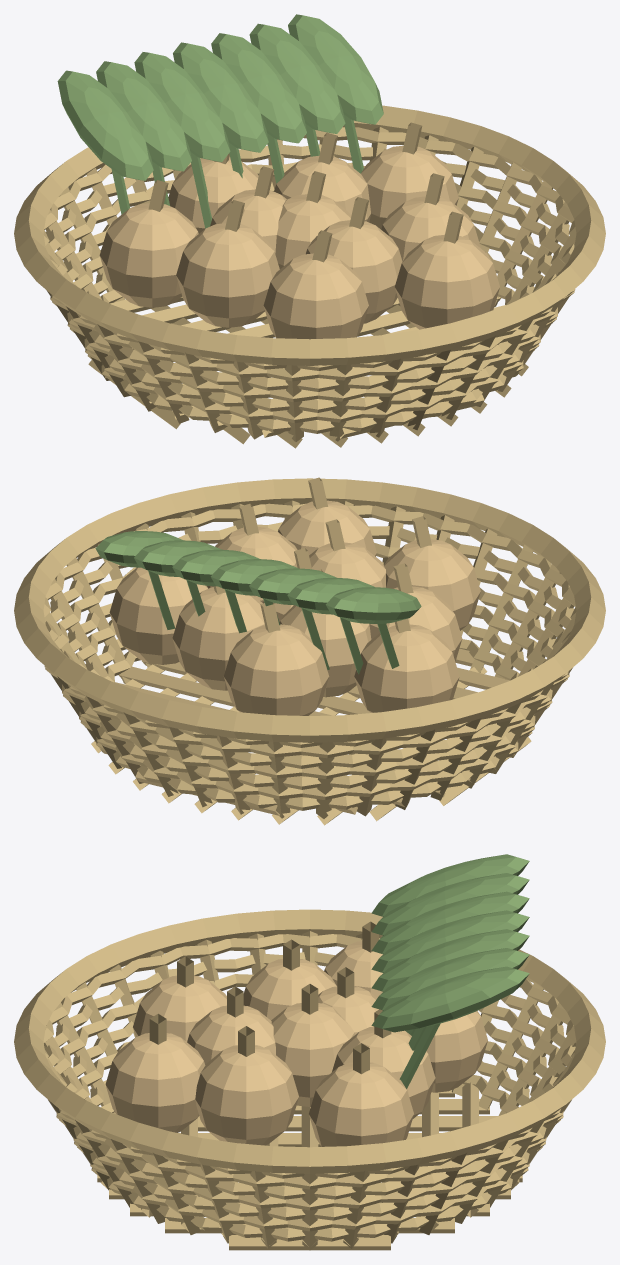
3 renders of one model, top to bottom at view 1: azimuth 30°, elevation 25°; view 2: azimuth 150°, elevation 25°; view 3: azimuth 270°, elevation 25°, orthographic.
Parts seen in each view (by area): view 1: BA-0041 batched; view 2: BA-0041 batched; view 3: BA-0041 batched.
Boxes of the visible parts, <box> form: BA-0041 batched: <box>14,14,605,448</box>; BA-0041 batched: <box>14,477,605,825</box>; BA-0041 batched: <box>14,854,605,1250</box>.
Size of the model in its own units: 0.842 by 0.3814 by 0.842.
